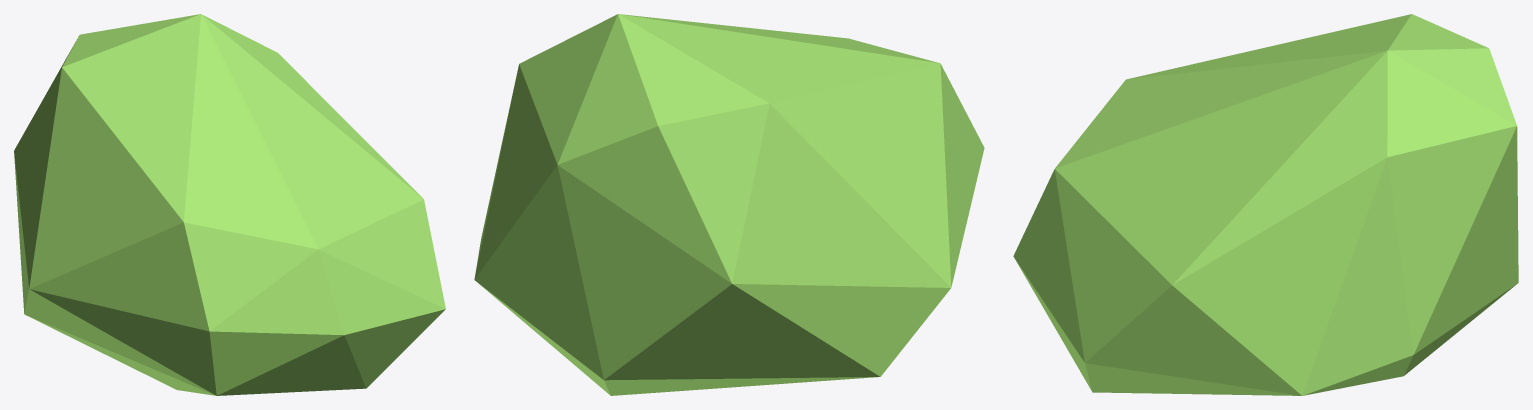
File: bush_1.fbx
3 views of the same model, side by side, from view 1: azimuth 30°, elevation 25°; view 2: azimuth 150°, elevation 25°; view 3: azimuth 270°, elevation 25° (orthographic). The views are drawn at different scales.
Visible parts, largest first — view 1: Icosphere.008; view 2: Icosphere.008; view 3: Icosphere.008.
Boxes of the visible parts, box(x1,y1,x2,y2) form: Icosphere.008: box(14, 14, 445, 395); Icosphere.008: box(474, 14, 984, 395); Icosphere.008: box(1013, 14, 1518, 395).
Size of the model in its own units: 212 by 165 by 229.
